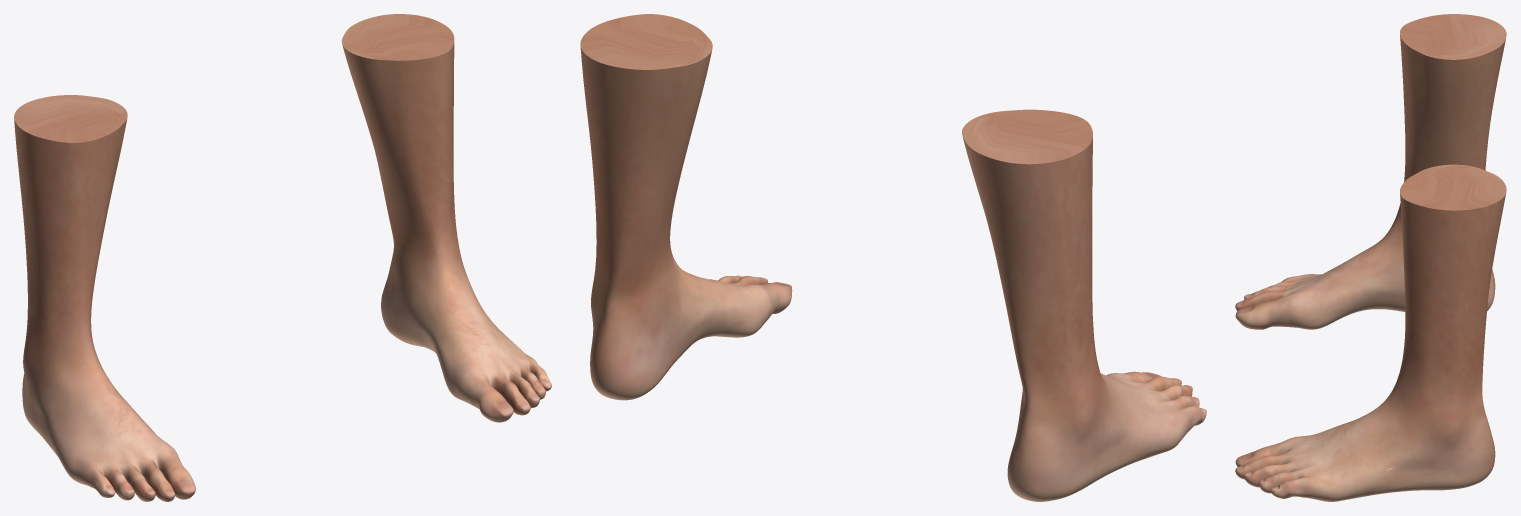
File: male-feet-shins.glb
The picture shows the model from 3 angles, left to right: view 1: azimuth 30°, elevation 25°; view 2: azimuth 150°, elevation 25°; view 3: azimuth 270°, elevation 25°; orthographic projection. The views are drawn at different scales.
Parts seen in each view (by area): view 1: RightFootAndShin, LeftFootAndShin; view 2: RightFootAndShin, LeftFootAndShin; view 3: LeftFootAndShin, RightFootAndShin.
Boxes of the visible parts, x1,y1,x2,y2 form: RightFootAndShin: (14,95,195,501); LeftFootAndShin: (341,14,551,422); RightFootAndShin: (962,109,1206,501); LeftFootAndShin: (580,14,792,400); LeftFootAndShin: (1235,164,1506,501); RightFootAndShin: (1235,14,1506,329).
Size of the model in its own units: 0.5174 by 0.3292 by 0.2798.
1 material, 1 textured.
